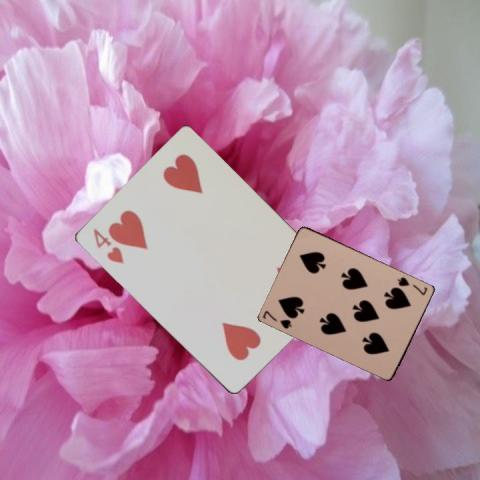4h: (90, 226, 125, 266)
7s: (394, 274, 428, 297), (260, 307, 293, 330)
